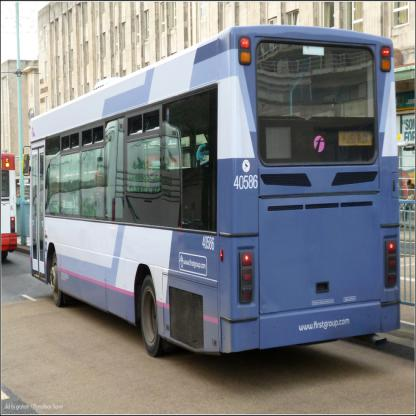Bus: (19, 25, 401, 356), (0, 149, 17, 259)
